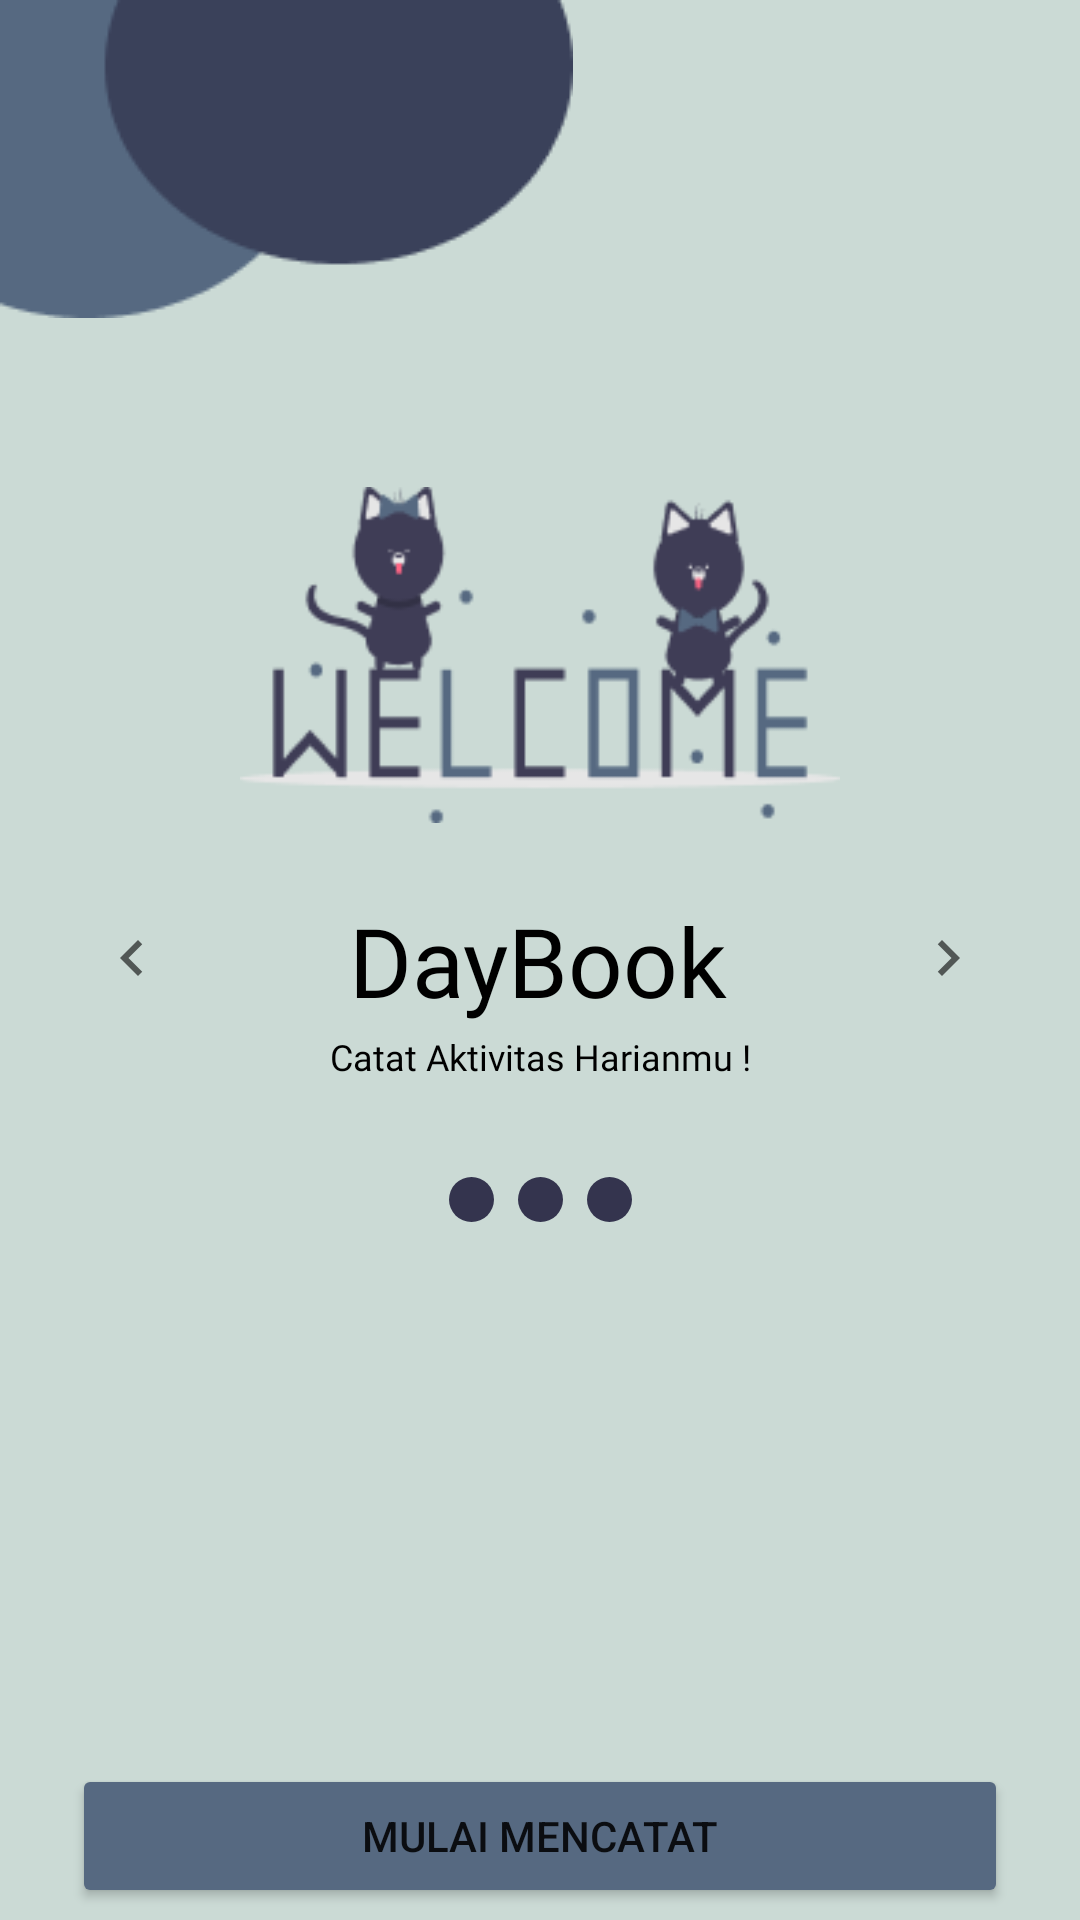

Named icons in this screenshot (1080w x 1920h) and their bounding boxes, (x1, y1, x2, y2):
back: (120, 940, 142, 976)
next: (938, 940, 960, 976)
